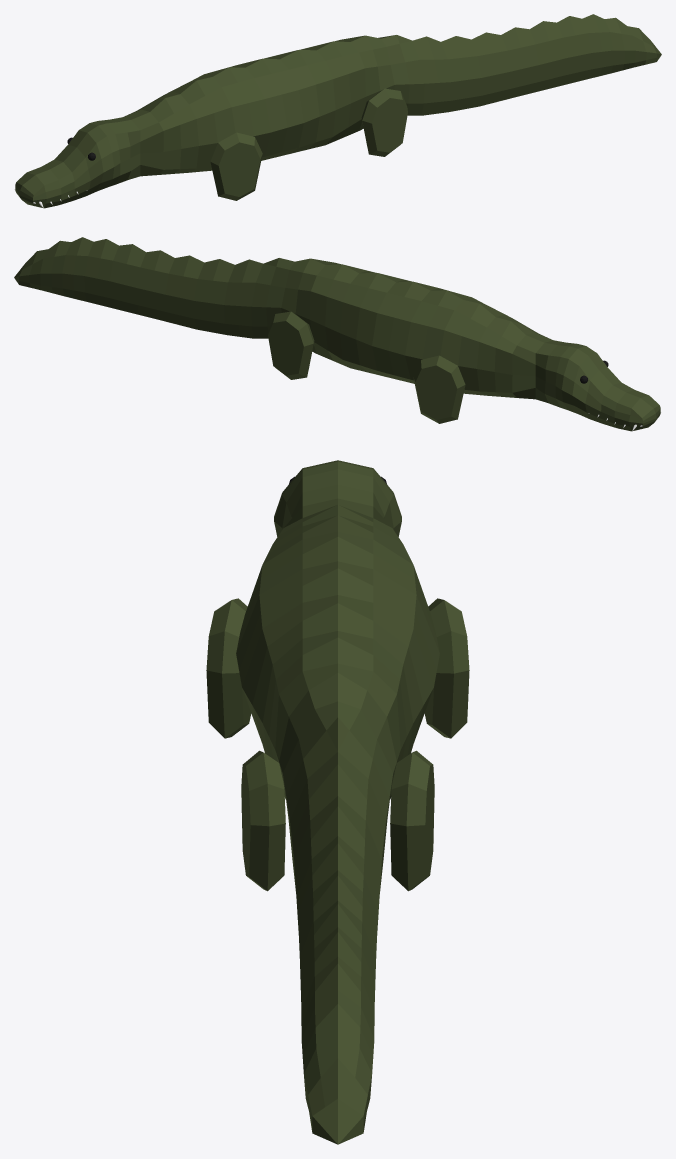
File: alligator.glb
The picture shows the model from 3 angles, top to bottom: view 1: azimuth 30°, elevation 25°; view 2: azimuth 150°, elevation 25°; view 3: azimuth 270°, elevation 25°; orthographic projection. The views are drawn at different scales.
Visible parts, largest first — view 1: Plane, Circle, Circle.001; view 2: Plane, Circle.003, Circle.002; view 3: Plane, Circle.001, Circle.002, Circle, Circle.003.
Part boxes in pixels (<box>): Plane: <box>15,14,661,208</box>; Circle: <box>210,132,262,200</box>; Circle.001: <box>361,88,407,156</box>; Plane: <box>14,237,660,431</box>; Circle.003: <box>413,355,465,423</box>; Circle.002: <box>268,311,314,379</box>; Plane: <box>236,460,439,1144</box>; Circle.001: <box>241,750,285,891</box>; Circle.002: <box>390,750,434,891</box>; Circle: <box>206,598,251,738</box>; Circle.003: <box>424,598,469,738</box>.
Bounding box in the file's own units: 8.37 × 1.37 × 1.48.
